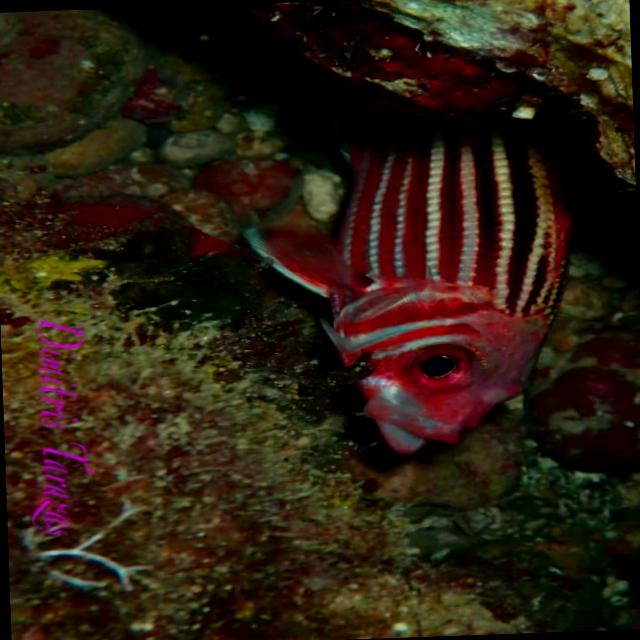Asker Baligi: (241, 41, 616, 478)
